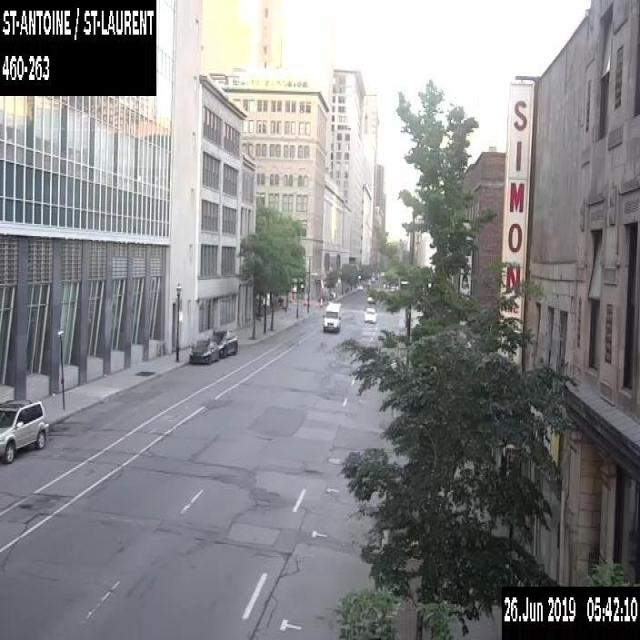vehicle: (0, 397, 49, 464), (208, 328, 237, 357), (188, 339, 218, 364), (322, 301, 340, 331), (362, 306, 377, 322), (366, 294, 375, 303)
